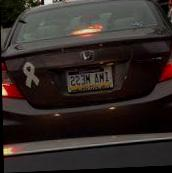License_Plate: (63, 61, 116, 96)
